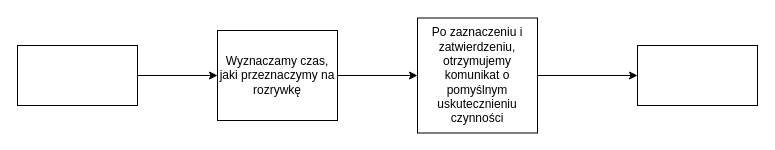
This 775x150 diagram has some shape labels left out. Here are the shapes that lost their labels. From the top down, the centre of each, then its label:
the point at 77,75: Start Procesu - Rozrywka
the point at 697,75: Po zatwierdzeniu wracamy do głównego widoku
